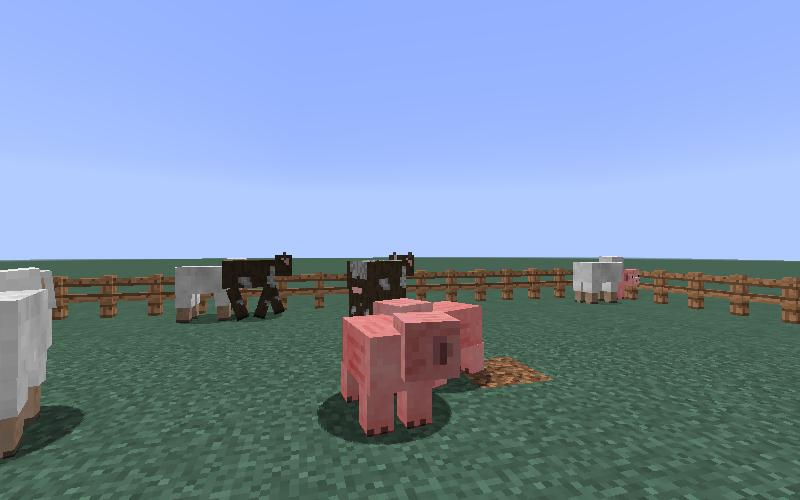cow: (219, 247, 297, 320), (347, 252, 415, 300)
pig: (337, 302, 462, 446), (623, 268, 641, 290)
sheep: (1, 265, 57, 457), (173, 264, 232, 322), (571, 253, 623, 305)
